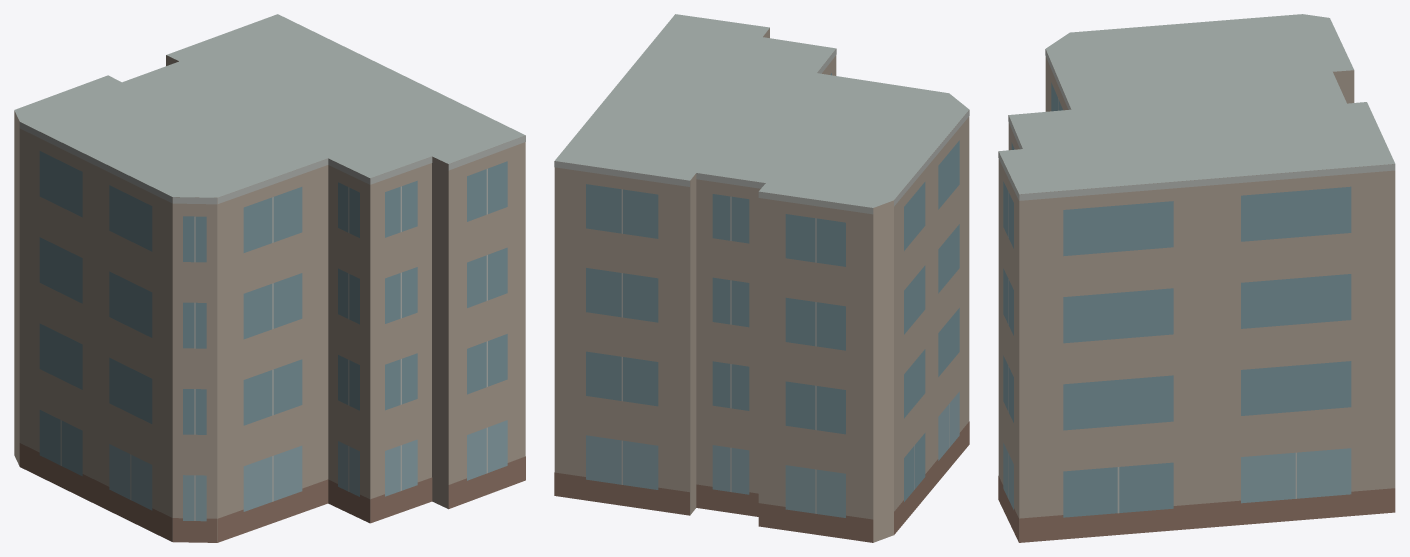
The model's file is survey-upis-32723441.glb.
The picture shows the model from 3 angles, left to right: view 1: azimuth 30°, elevation 25°; view 2: azimuth 150°, elevation 25°; view 3: azimuth 270°, elevation 25°; orthographic projection. The views are drawn at different scales.
Parts seen in each view (by area): view 1: survey-upis-32723441.tmp; view 2: survey-upis-32723441.tmp; view 3: survey-upis-32723441.tmp.
Part boxes in pixels (<box>): survey-upis-32723441.tmp: <box>14,14,525,542</box>; survey-upis-32723441.tmp: <box>554,14,969,542</box>; survey-upis-32723441.tmp: <box>998,14,1395,542</box>.
Bounding box in the file's own units: 14.2 × 12.8 × 13.22.
